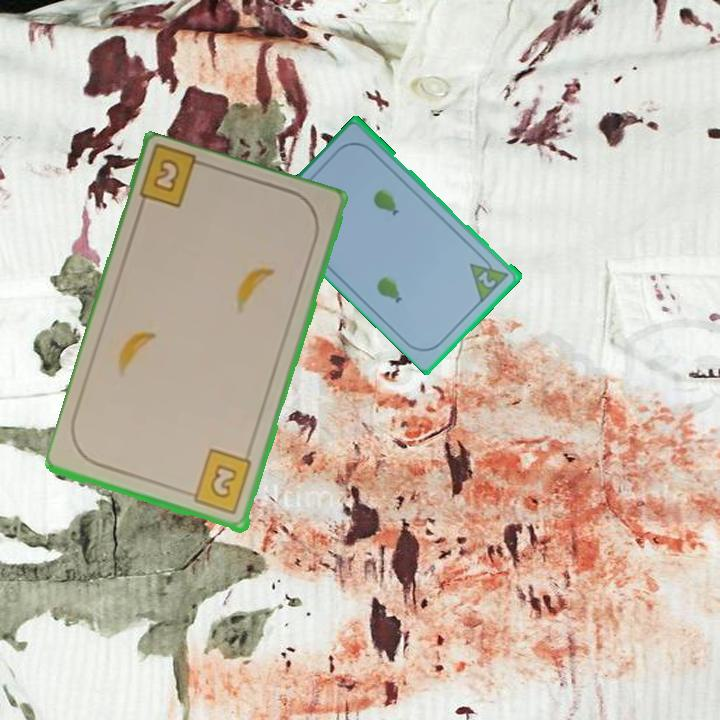2b: (182, 447, 255, 518), (149, 155, 183, 196)
2p: (475, 267, 499, 290)
